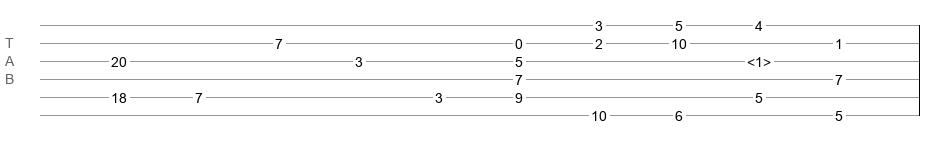0: (515, 36, 523, 46)
1: (835, 36, 843, 46)
10: (591, 108, 607, 118), (671, 36, 687, 46)
18: (111, 90, 127, 100)
2: (595, 36, 603, 46)
20: (111, 54, 127, 64)
3: (355, 54, 363, 64), (435, 90, 443, 100), (595, 18, 603, 28)
4: (755, 18, 763, 28)
5: (515, 54, 523, 64), (675, 18, 683, 28), (755, 90, 763, 100), (835, 108, 843, 118)
6: (675, 108, 683, 118)
7: (195, 90, 203, 100), (275, 36, 283, 46), (515, 72, 523, 82), (835, 72, 843, 82)
9: (515, 90, 523, 100)
harmonic: (747, 54, 771, 64)
